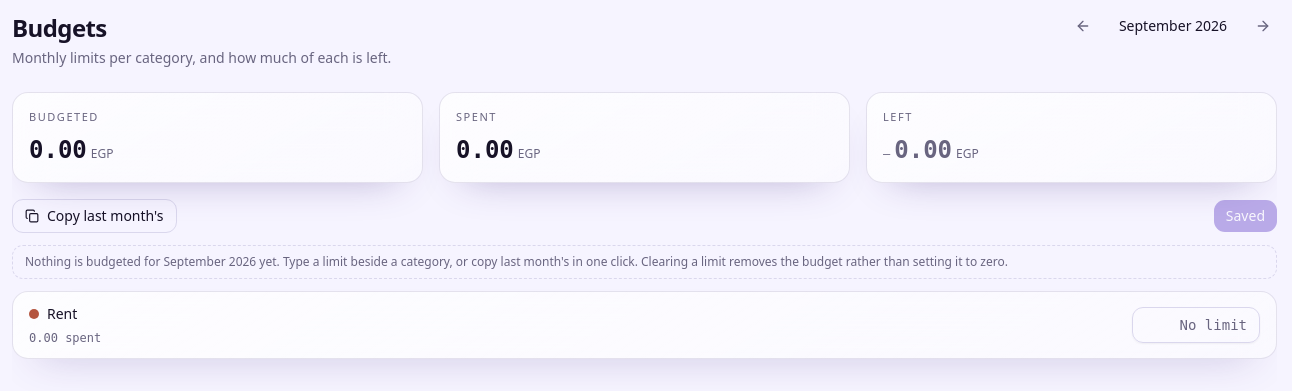
copying last month › reports what it did, including what it left alone
The image size is (1292, 391).
Click the button "Copy last month's". click: click(94, 216)
box: x1=12 y1=198 x2=176 y2=232
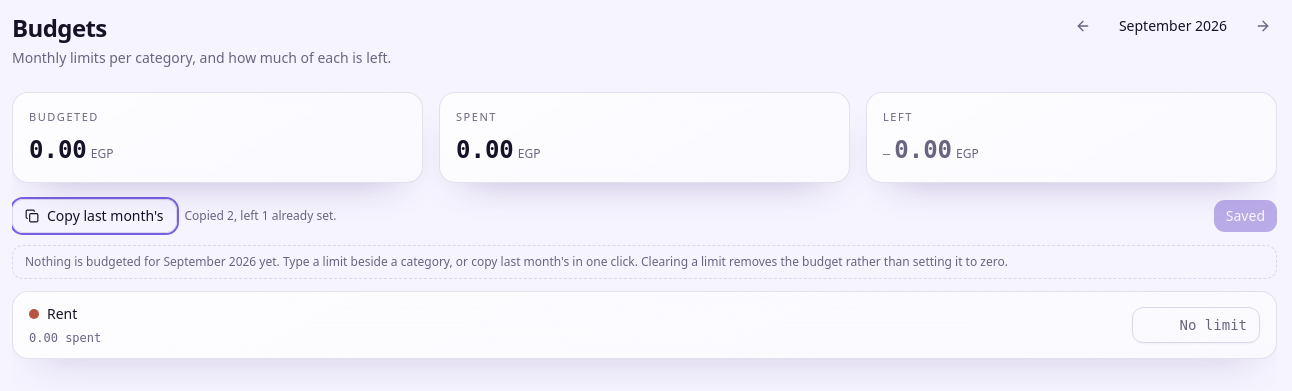
Expected: the message reads "Copied 2, left 1 already set.", x1=184 y1=208 x2=336 y2=224
